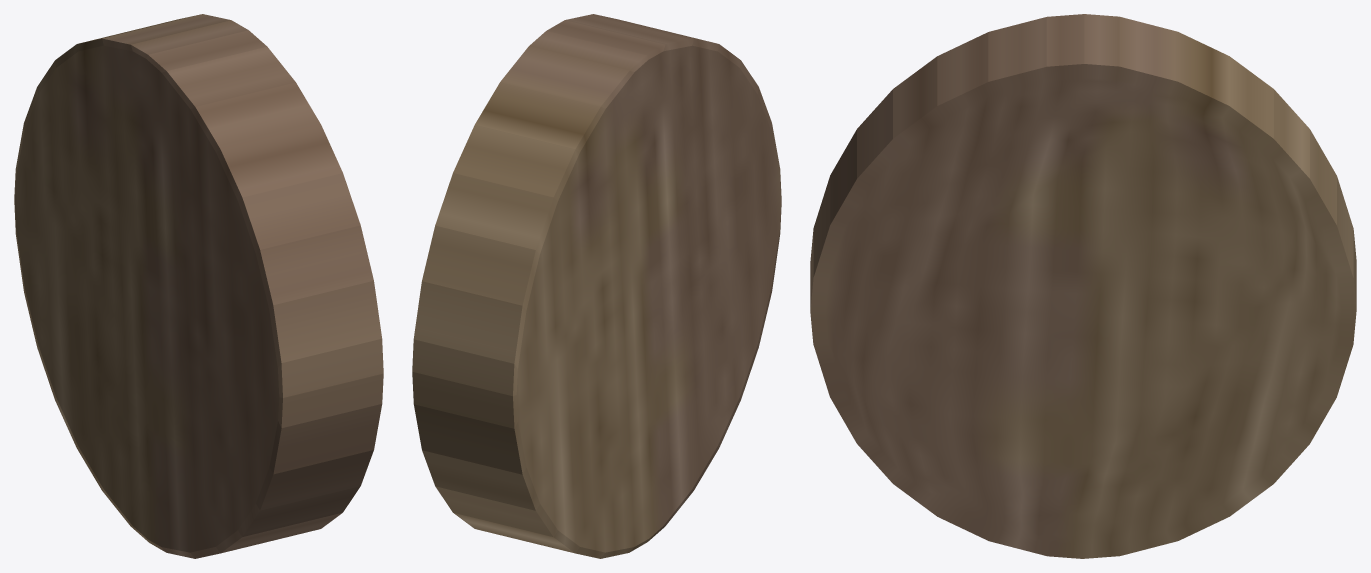
File: rackButton2.gltf
3 renders of one model, left to right at view 1: azimuth 30°, elevation 25°; view 2: azimuth 150°, elevation 25°; view 3: azimuth 270°, elevation 25°, orthographic.
Visible parts, largest first — view 1: rackButton2; view 2: rackButton2; view 3: rackButton2.
Boxes of the visible parts, x1=… form: rackButton2: x1=14, y1=14, x2=383, y2=558; rackButton2: x1=412, y1=14, x2=781, y2=558; rackButton2: x1=810, y1=14, x2=1356, y2=558.
Size of the model in its own units: 0.0401 by 0.1825 by 0.1825.
Materials: 1 (1 with a texture image).
